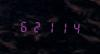four: (66, 20, 77, 34)
one: (42, 19, 53, 34), (54, 20, 65, 34)
six: (18, 18, 29, 33)
two: (30, 19, 41, 33)
